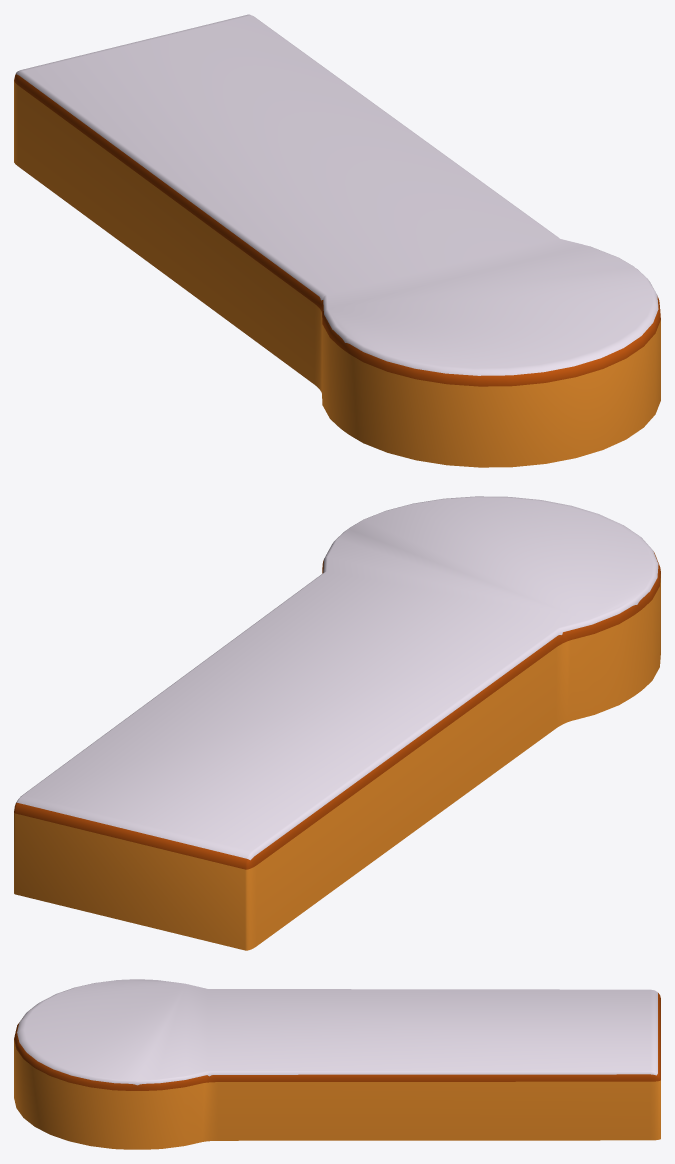
File: boardgame.fbx
3 views of the same model, one above another, from view 1: azimuth 30°, elevation 25°; view 2: azimuth 150°, elevation 25°; view 3: azimuth 270°, elevation 25° (orthographic). The views are drawn at different scales.
Parts seen in each view (by area): view 1: boardgame; view 2: boardgame; view 3: boardgame.
Part boxes in pixels (x1,y1,x2,y2): boardgame: (14, 14, 660, 467); boardgame: (14, 496, 660, 950); boardgame: (14, 979, 660, 1149).
Size of the model in its own units: 1567 by 482 by 4128.
